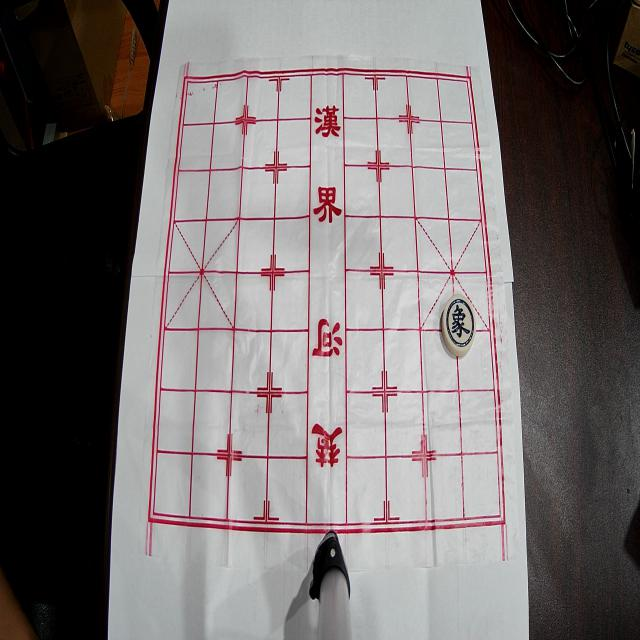black-elephant: (442, 294, 476, 356)
